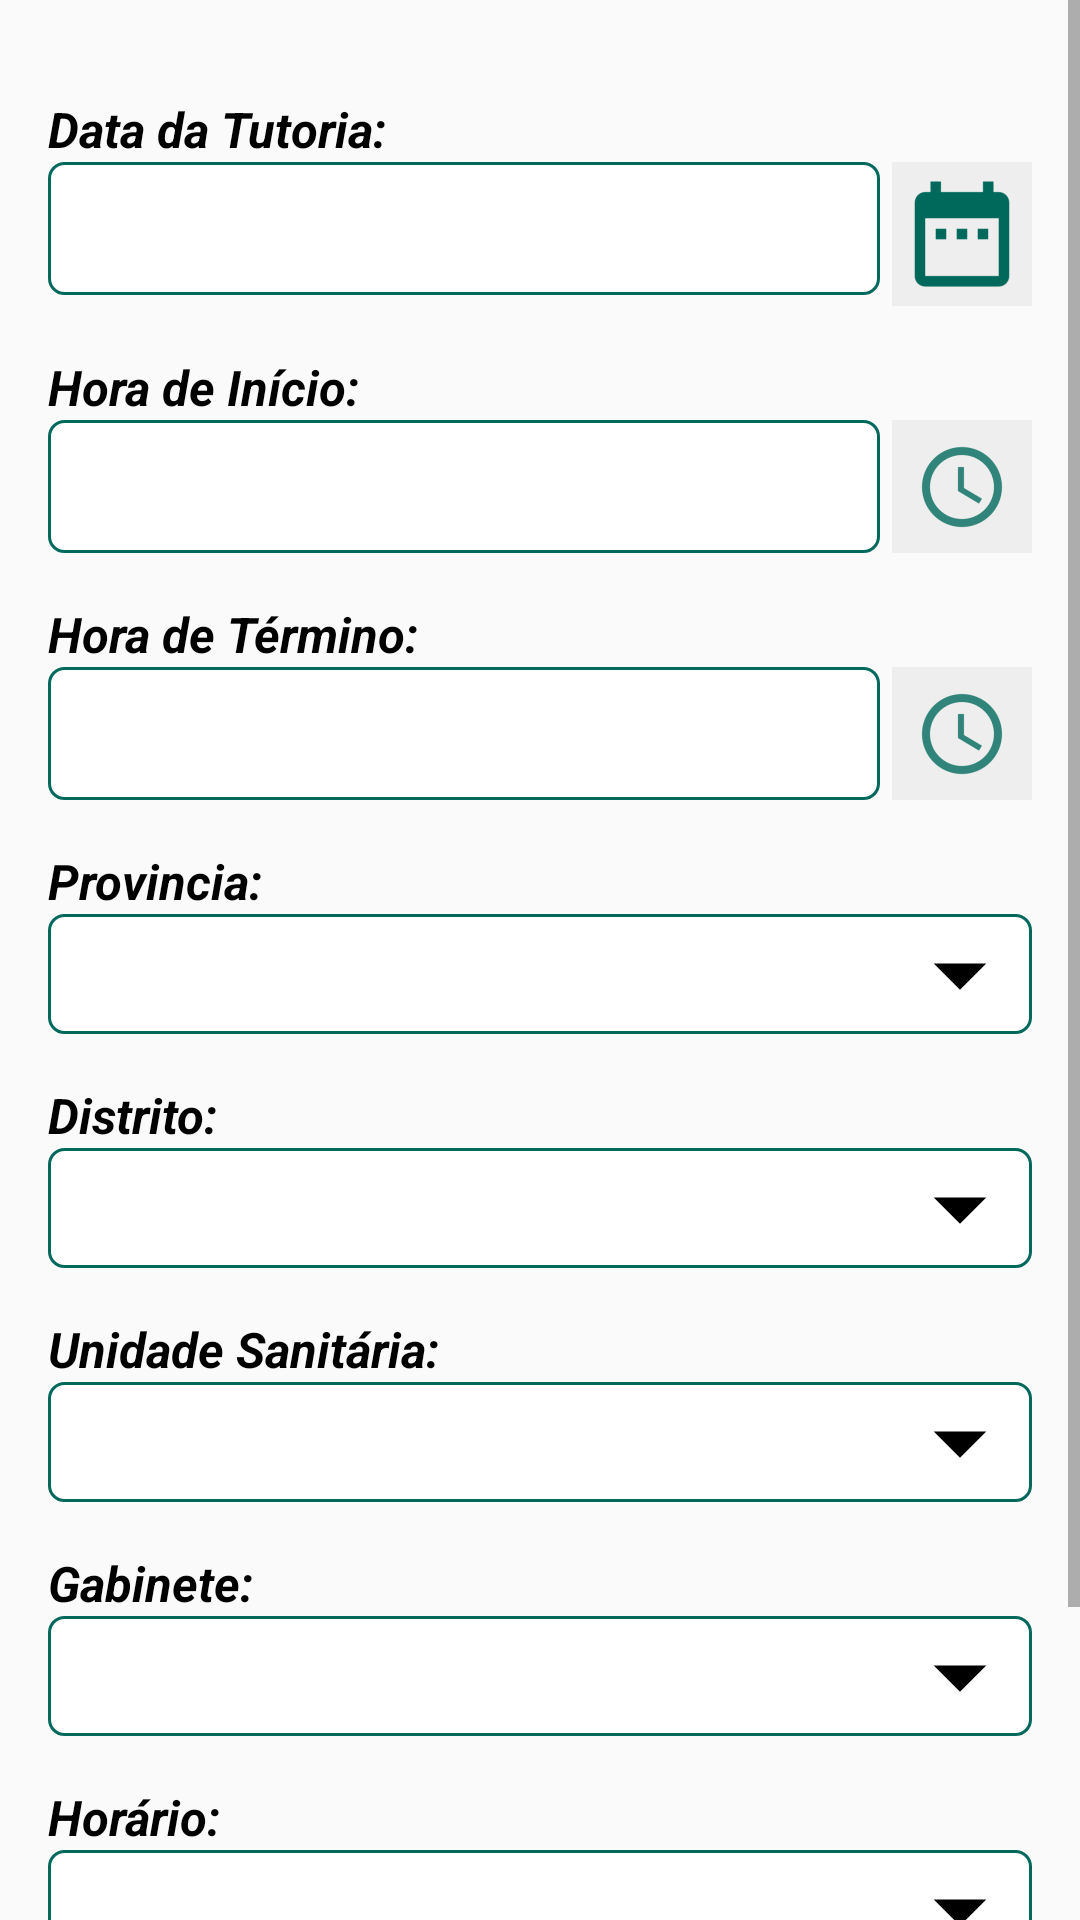

Screen size 1080 x 1920. Icon name, then its center in pixels as (x=x, y=y):
calendar: (x=962, y=234)
time: (x=962, y=486), (x=962, y=733)
